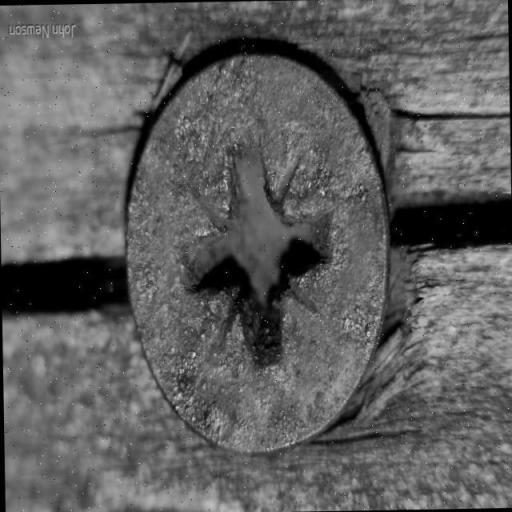Pozidriv: (108, 26, 397, 462)
